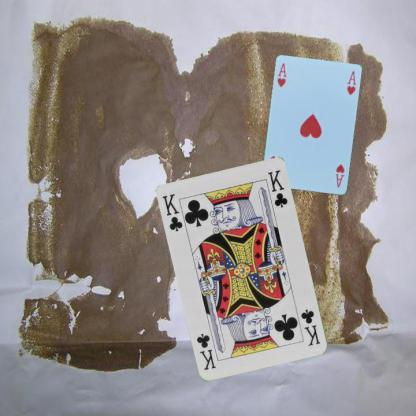Ah: (332, 161, 346, 189), (274, 61, 288, 88)
Kc: (160, 191, 184, 233), (298, 307, 322, 348)
